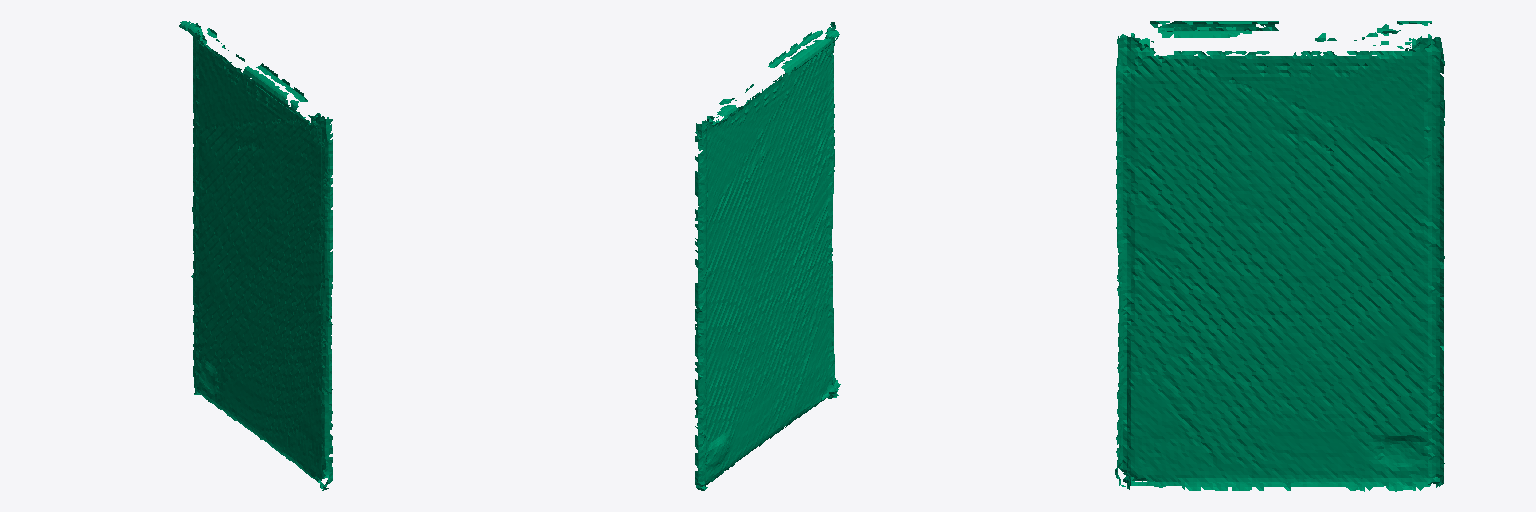
URDF robot description (Dishwasher_12580_0_1_model):
<?xml version="1.0"?>
<robot name="Dishwasher_12580_0_1_model">
  <link name="base"/>

  <link name="base_link">
    <visual>
      <geometry><mesh filename="./mesh_parts/body_rest.obj" scale="1 1 1"/></geometry>
    </visual>
    <collision>
      <geometry><mesh filename="./mesh_parts/body_rest.obj" scale="1 1 1"/></geometry>
    </collision>
  </link>

  <joint name="fixed_base_to_baselink" type="fixed">
    <parent link="base"/>
    <child link="base_link"/>
    <origin xyz="0 0 0" rpy="0 0 0"/>
  </joint>

  <link name="prop0_inst0_link">
    <visual>
      <origin xyz="0.478664994 -1.780395031 0.570465267" rpy="0 0 0"/>
      <geometry><mesh filename="./mesh_parts/prop0_inst0_part.obj" scale="1 1 1"/></geometry>
    </visual>
    <!-- <collision>
      <origin xyz="0.478664994 -1.780395031 0.570465267" rpy="0 0 0"/>
      <geometry><mesh filename="./mesh_parts/prop0_inst0_part.obj" scale="1 1 1"/></geometry>
    </collision> -->
  </link>

  <joint name="prop0_inst0_hinge" type="revolute">
    <parent link="base_link"/>
    <child link="prop0_inst0_link"/>
    <origin xyz="-0.478664994 1.780395031 -0.570465267" rpy="0 0 0"/>
    <axis xyz="-0.004364385 0.999989927 -0.001054288"/>
    <limit lower="0.0" upper="100.0"/>
  </joint>

</robot>

--- Render facts (derived) ---
Views: 3 orthographic renders of the robot side by side, from view 1: azimuth 30°, elevation 25°; view 2: azimuth 150°, elevation 25°; view 3: azimuth 270°, elevation 25°.
Model Dishwasher_12580_0_1_model with 3 links and 2 joints (1 revolute, 1 fixed), rooted at base, posed every joint at zero.
Links seen in each view (by area): view 1: prop0_inst0_link; view 2: prop0_inst0_link; view 3: prop0_inst0_link.
Boxes of the visible links, <box> form: prop0_inst0_link: <box>179,21,332,490</box>; prop0_inst0_link: <box>695,22,840,490</box>; prop0_inst0_link: <box>1115,21,1444,491</box>.
Size in the robot's own frame: 0.085 by 0.8433 by 1.3 metres.
1 mesh visuals loaded from 2 distinct referenced files (1 OBJ); not drawn: 1 (reference not matched to a file when rendering).